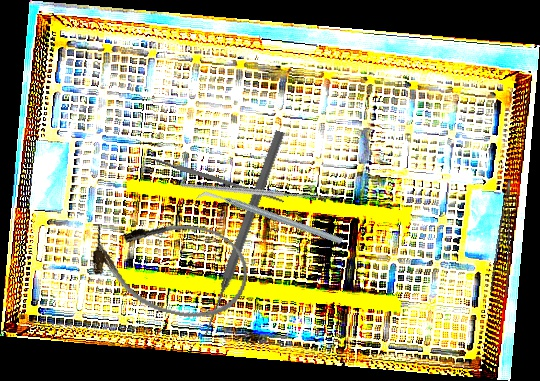Cannula: (82, 204, 257, 329)
Chopper: (195, 145, 345, 292)
Hook Surgical: (178, 112, 342, 265)
Pusher: (199, 129, 287, 337)
Scalpel Handle: (153, 156, 285, 204)
Tissue Forceps: (484, 179, 531, 297)
